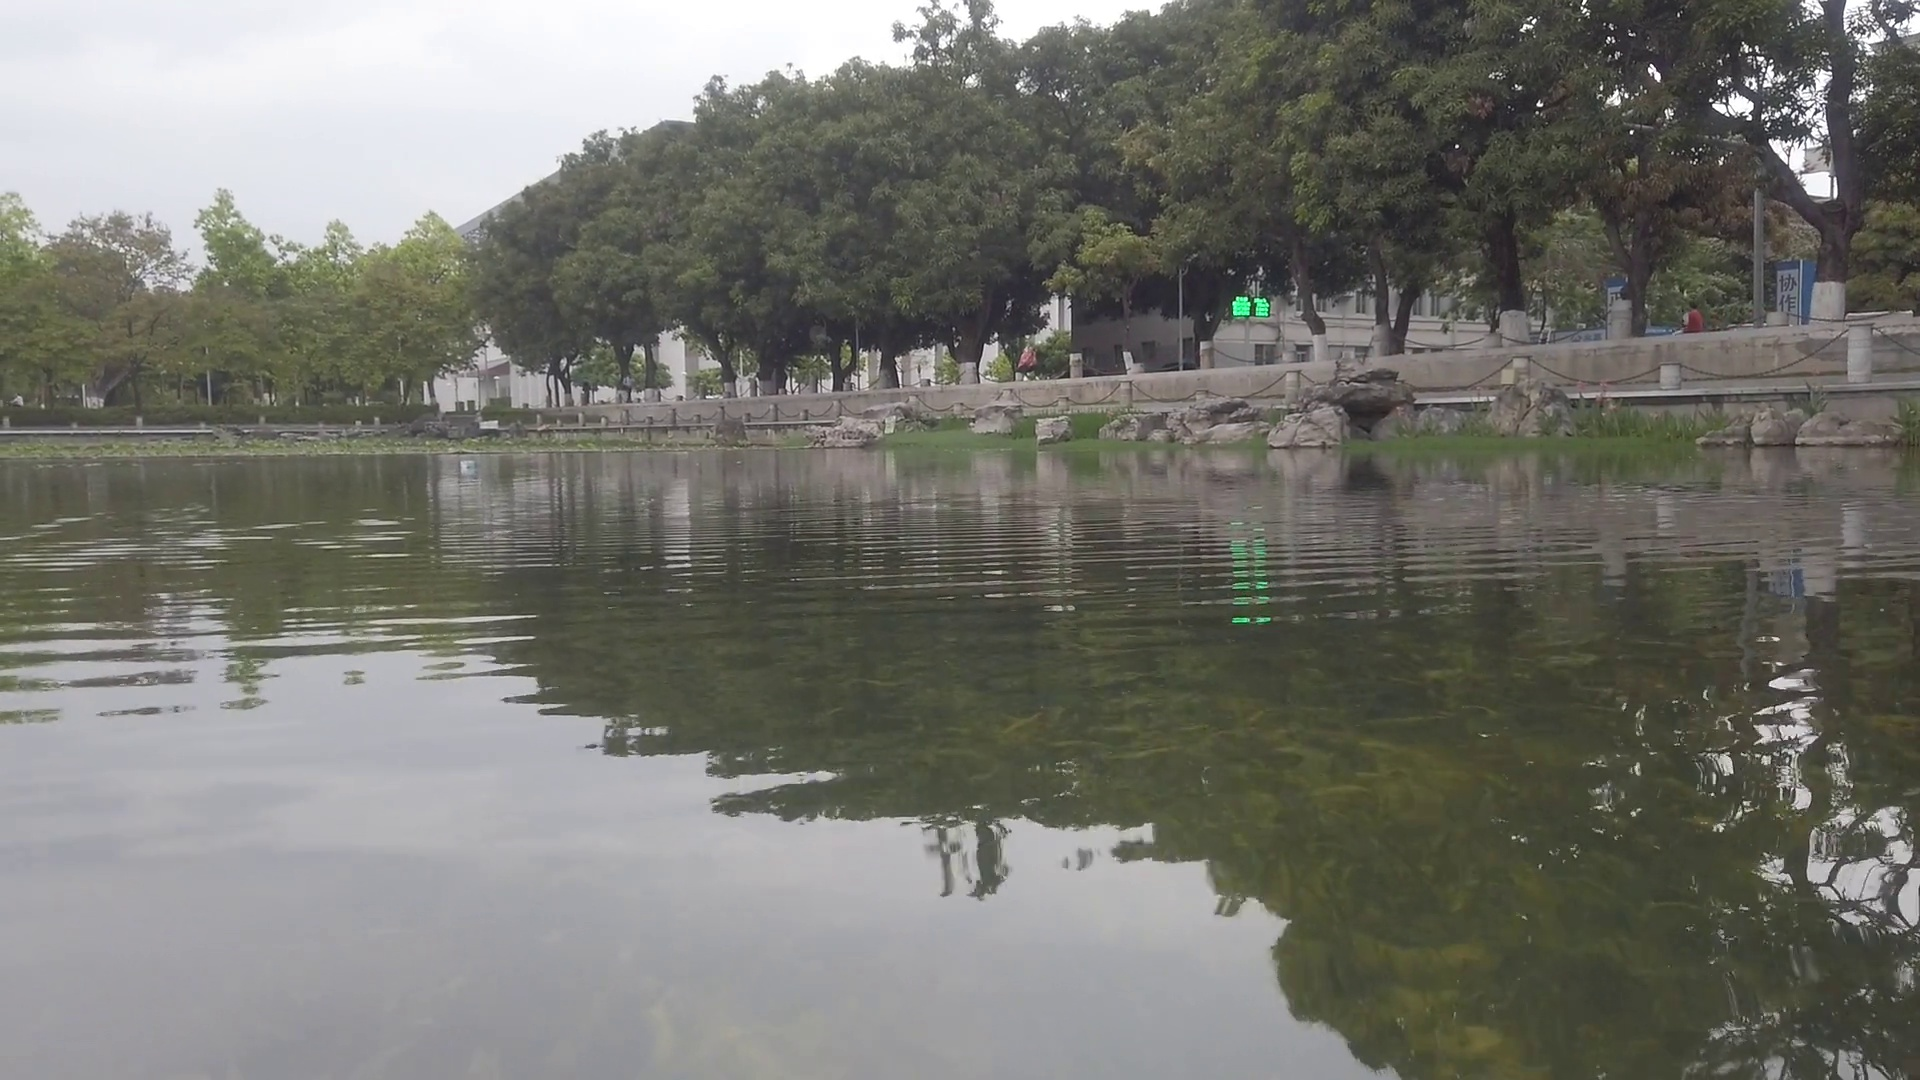carton: (460, 459, 481, 469)
